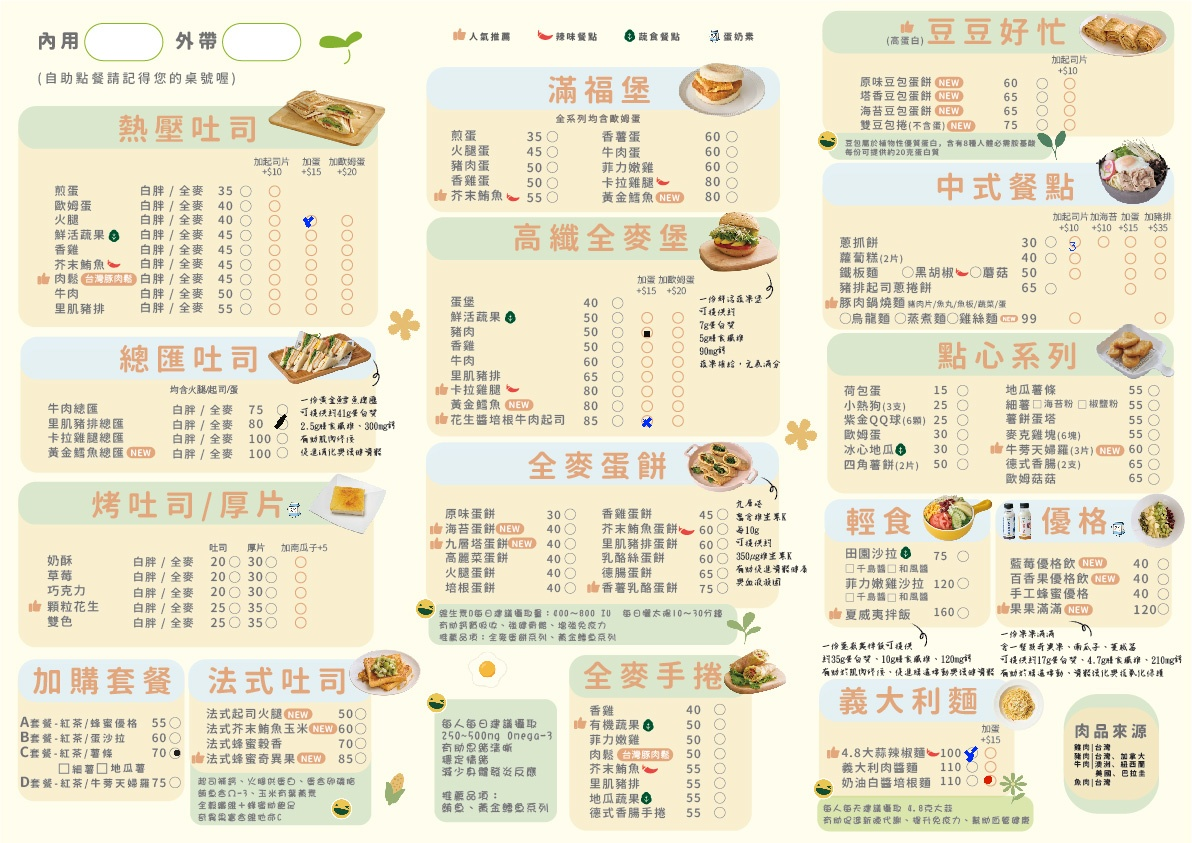marked_circle: (985, 775, 995, 786), (641, 328, 651, 339), (168, 748, 178, 759)
marked_number_3: (1069, 236, 1079, 247)
marked_tick: (276, 417, 286, 428), (966, 748, 976, 759), (305, 215, 315, 226)
marked_x: (641, 416, 651, 427)
